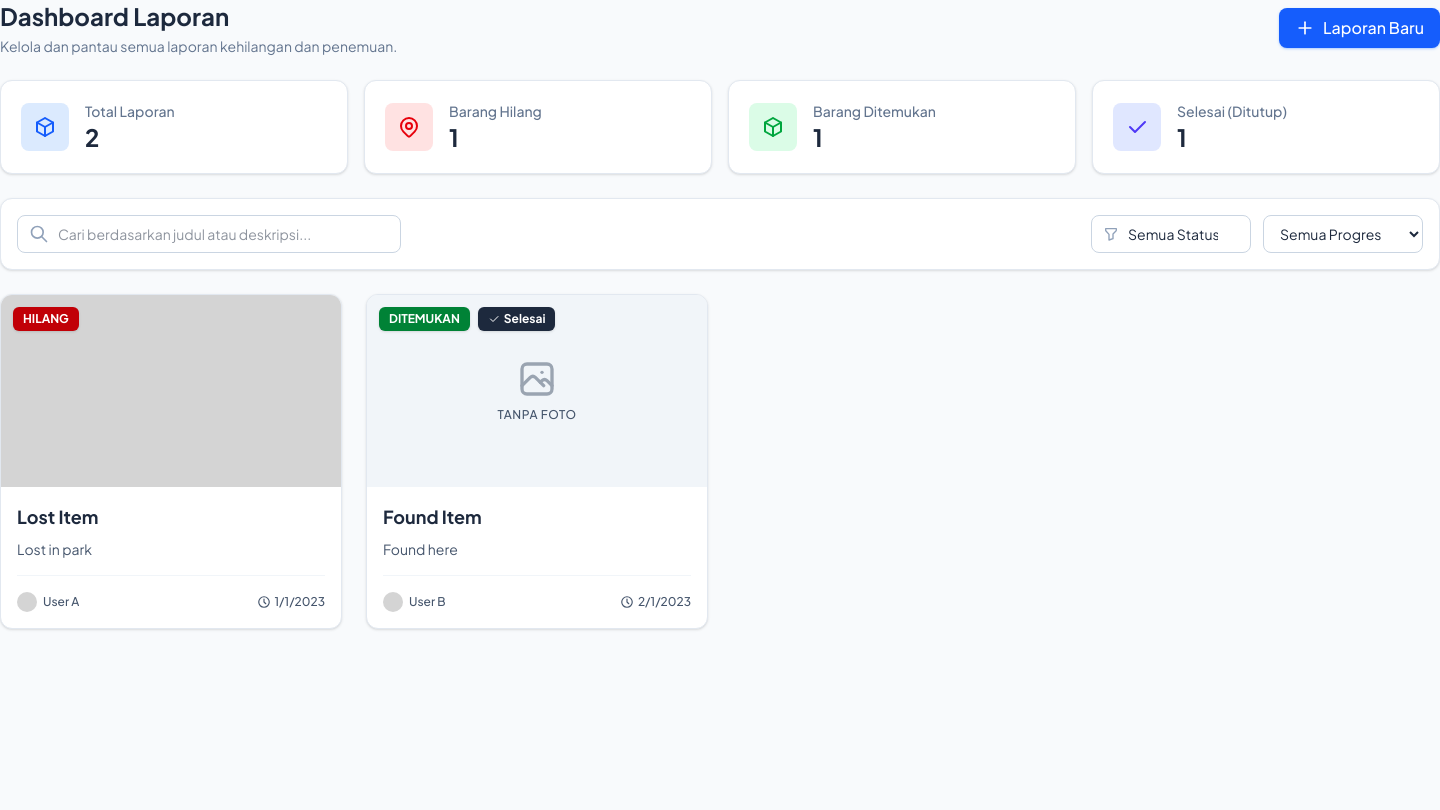
Test case: HomePage › opens AddModal when Laporan Baru is clicked
The width and height of the screenshot is (1440, 810).
Click the button "Laporan Baru" at point(1360, 28), box [1279,8,1439,48]
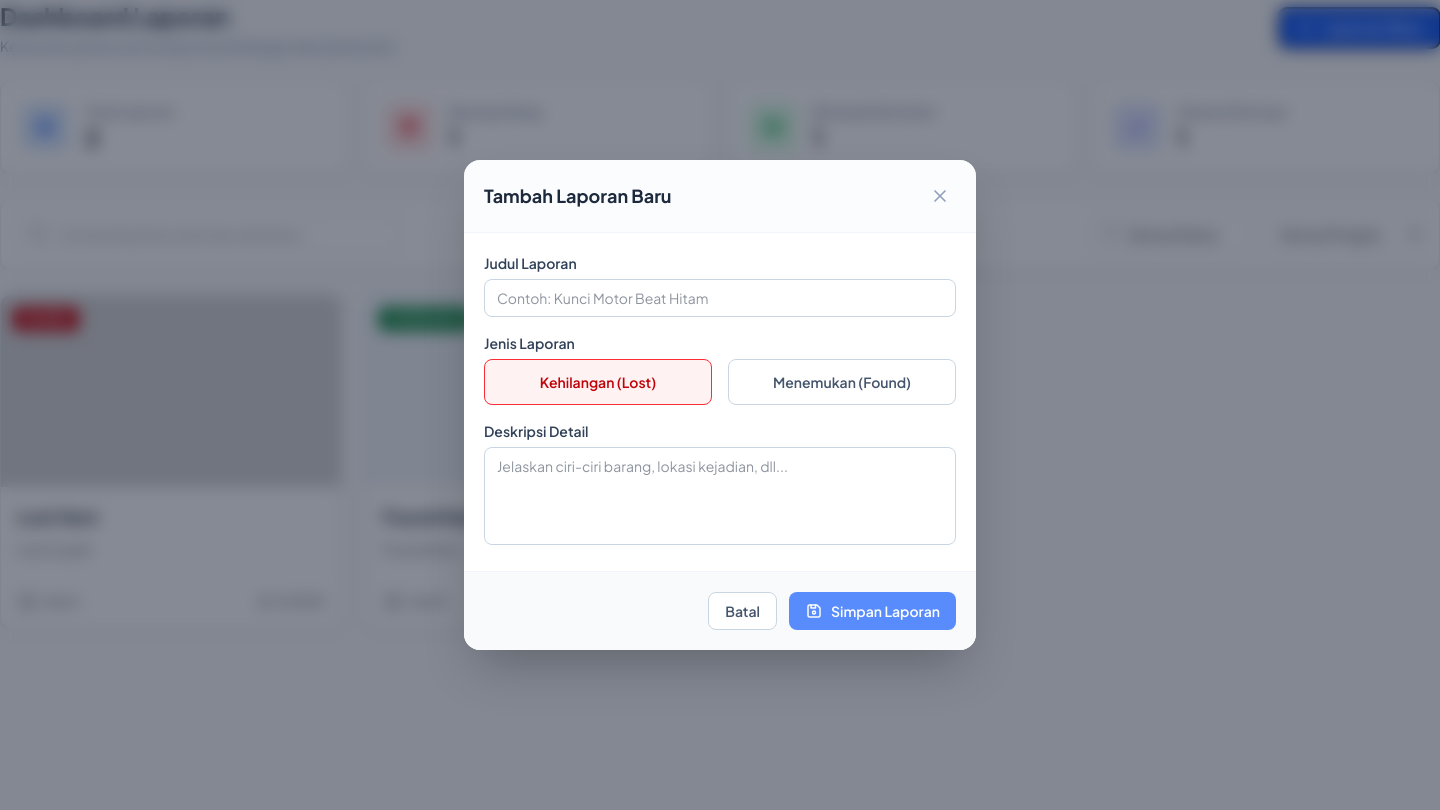
Check: the heading "Tambah Laporan Baru" is shown, box [484,182,672,210]
